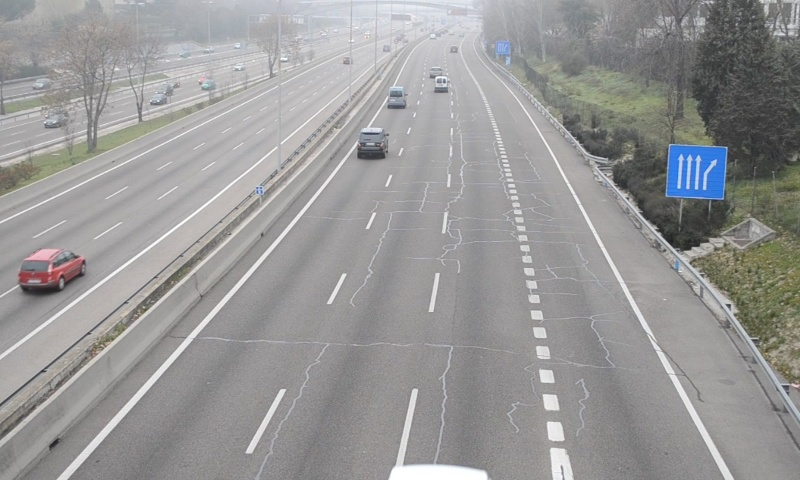car: (356, 127, 389, 156)
van: (387, 85, 407, 110)
